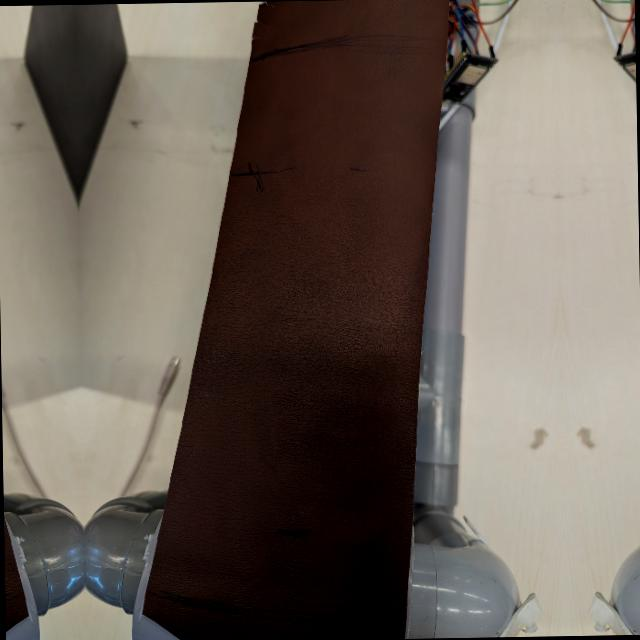belt_tear: (138, 595, 173, 640), (5, 598, 32, 640)
